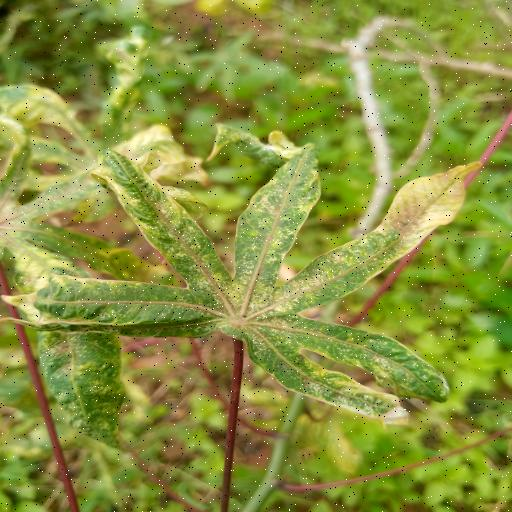Cassava_Mosaic: (0, 144, 484, 450)
